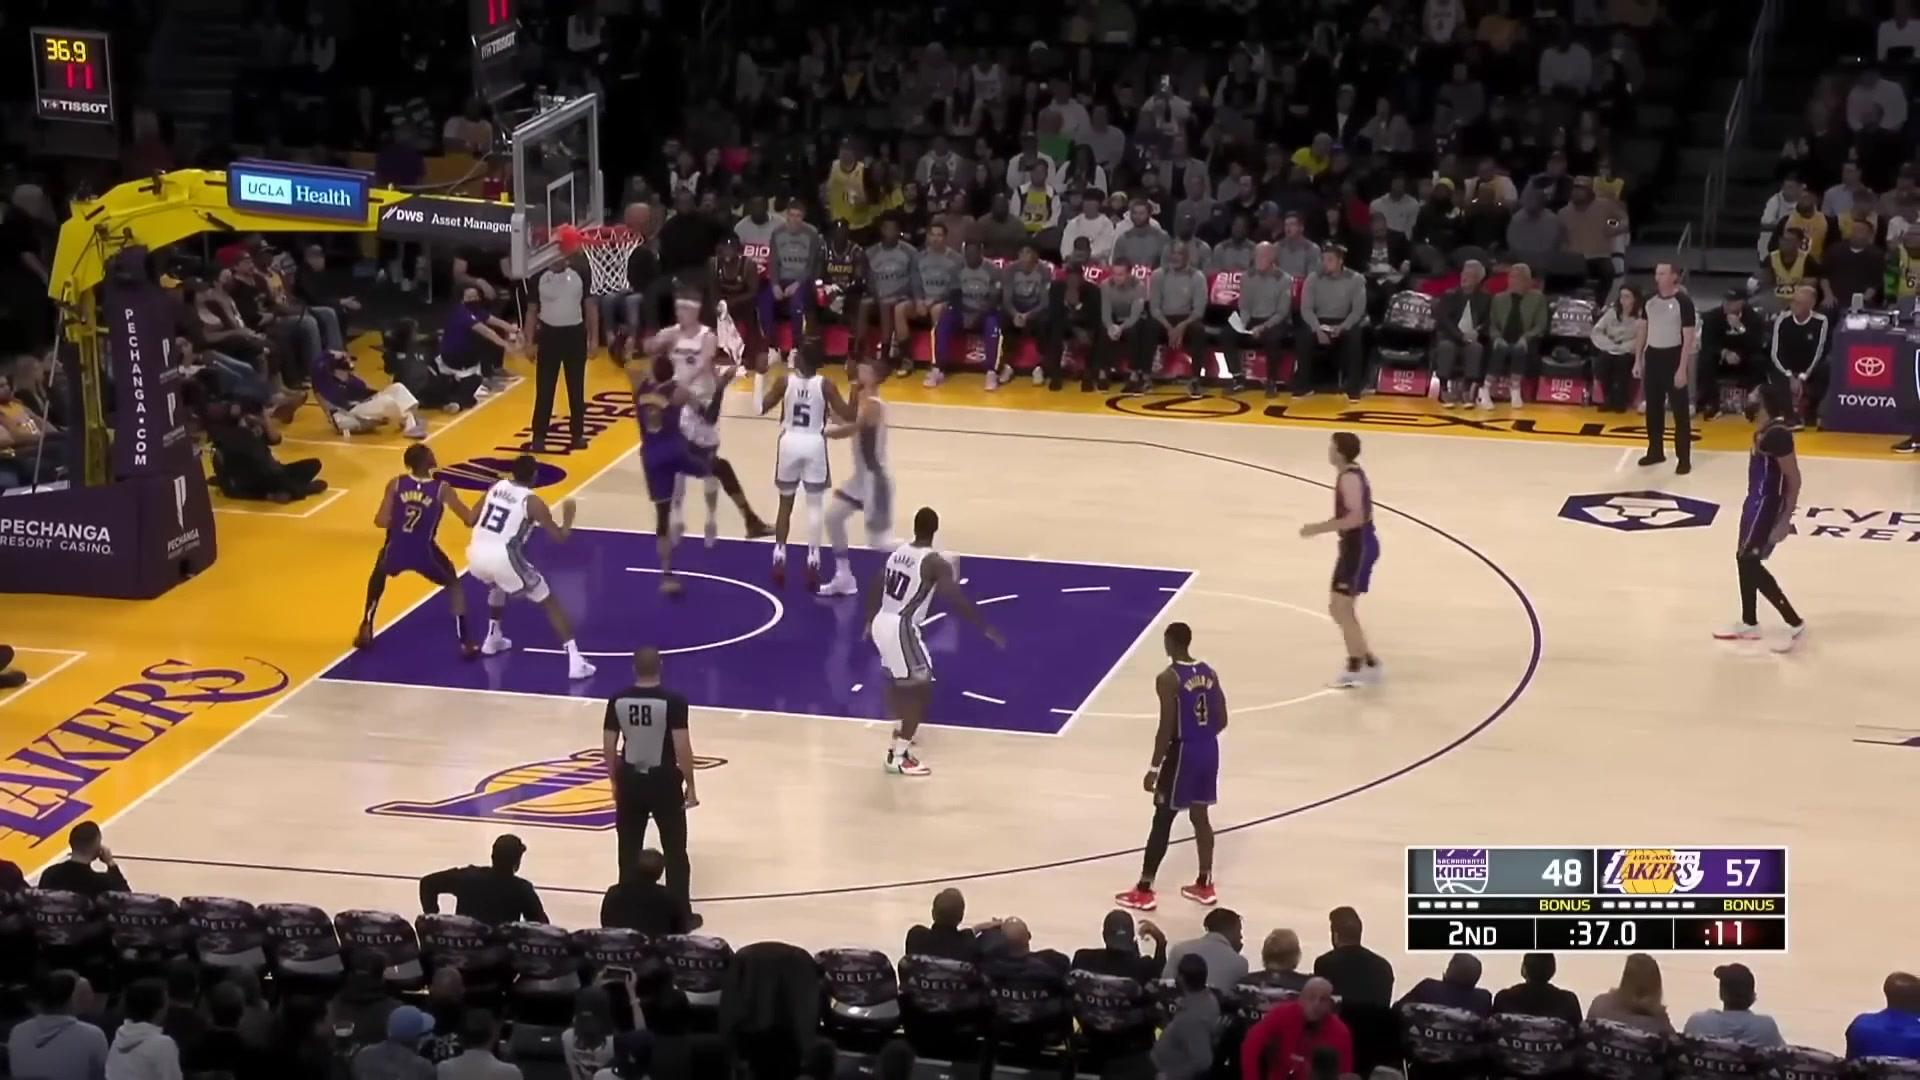foul: (585, 297, 790, 574)
